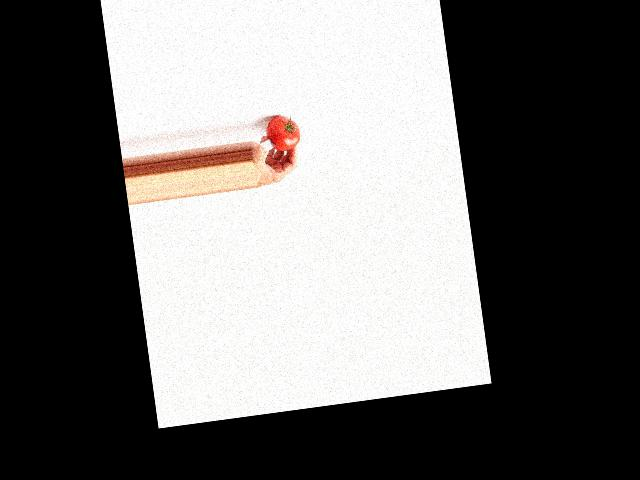tomato: (264, 113, 302, 153)
